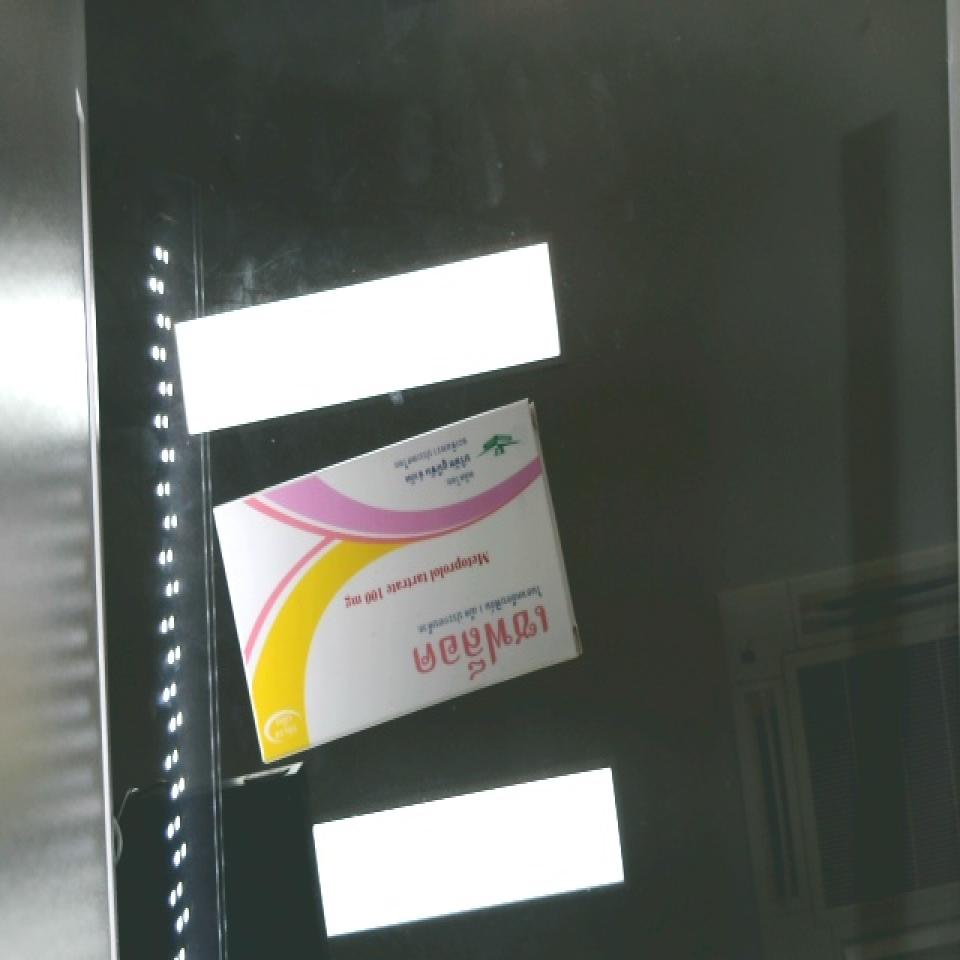medicine_box: (182, 402, 614, 762)
medicine_label_obb: (381, 573, 584, 714)
